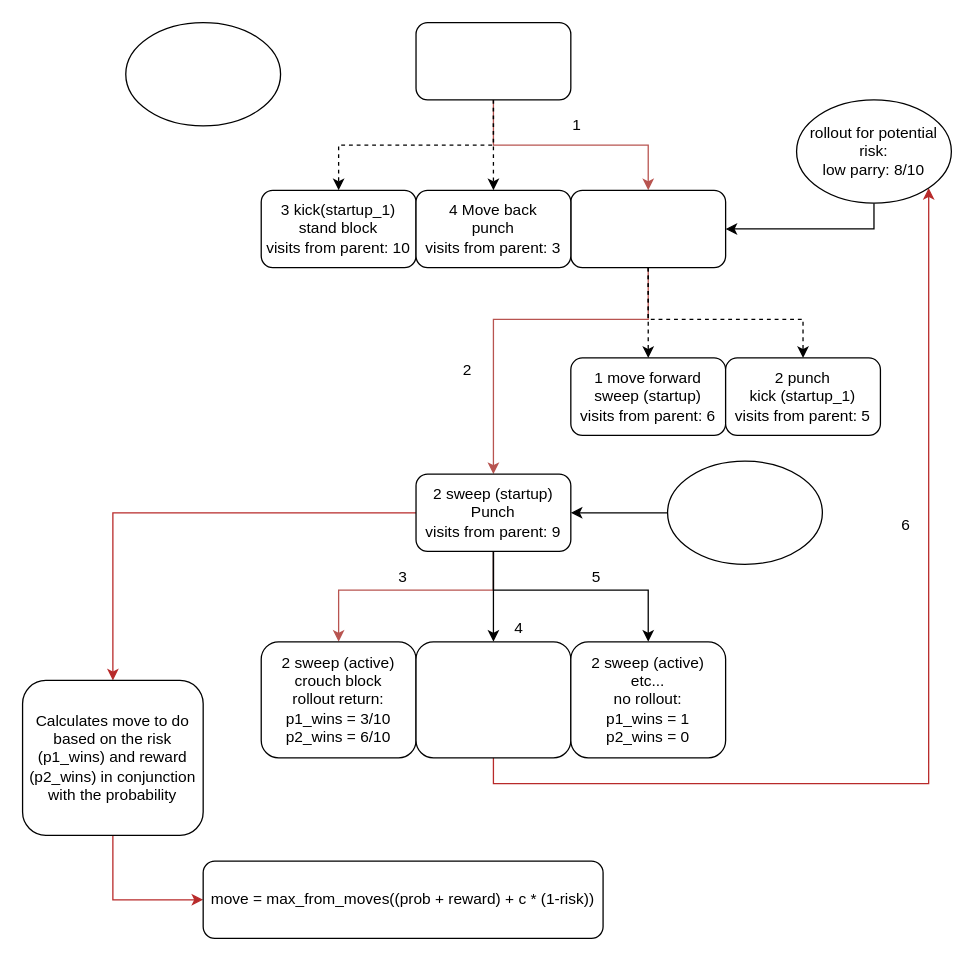
This 974x961 diagram has some shape labels left out. The box of each missing label's shape, as (x1, y1, x2, y2) in pixels:
2 Move forward Punch visits from parent: 20: (570, 189, 726, 268)
2 sweep (active) low parry parent rollout: reward = 1 risk = 8/10: (415, 640, 571, 758)
3 None None: (415, 21, 571, 100)
mcts starts here probability = 9/20(45%): (666, 460, 822, 564)
Player 2: (124, 21, 281, 126)
